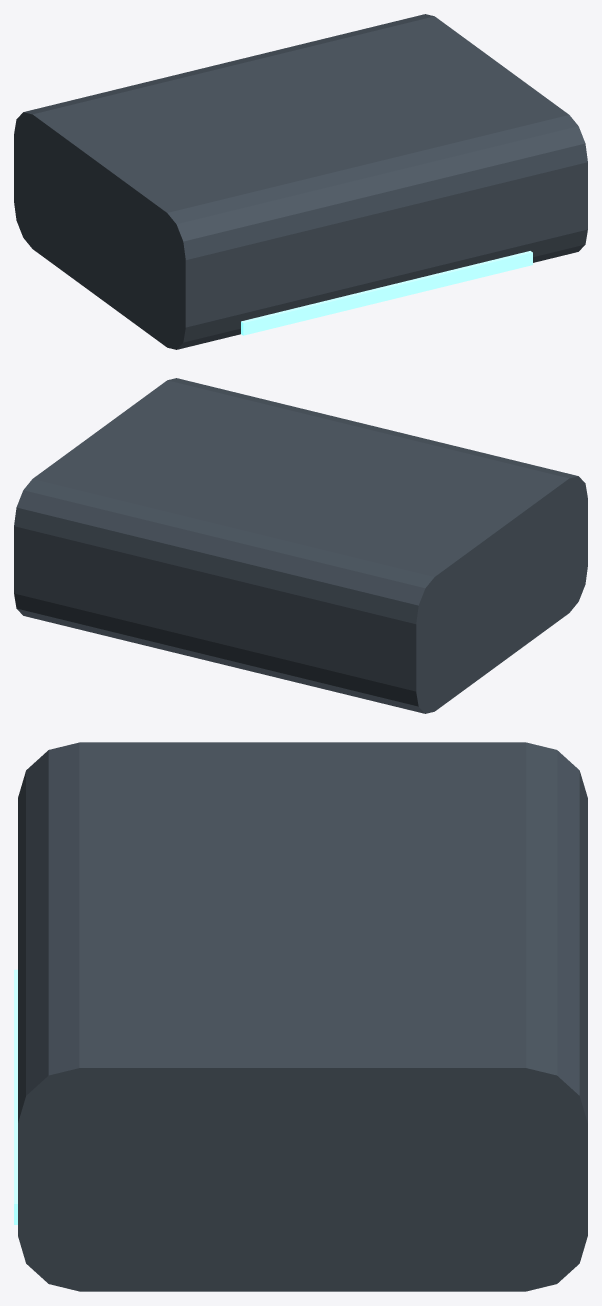
File: Door_Lintel.gltf
3 renders of one model, top to bottom at view 1: azimuth 30°, elevation 25°; view 2: azimuth 150°, elevation 25°; view 3: azimuth 270°, elevation 25°, orthographic. The views are drawn at different scales.
Parts seen in each view (by area): view 1: Door_Lintel_baked; view 2: Door_Lintel_baked; view 3: Door_Lintel_baked.
Boxes of the visible parts, box(x1,y1,x2,y2) form: Door_Lintel_baked: box(14, 14, 587, 349); Door_Lintel_baked: box(14, 378, 587, 713); Door_Lintel_baked: box(14, 742, 587, 1291).
Bounding box in the file's own units: 1 × 0.32 × 0.745.
